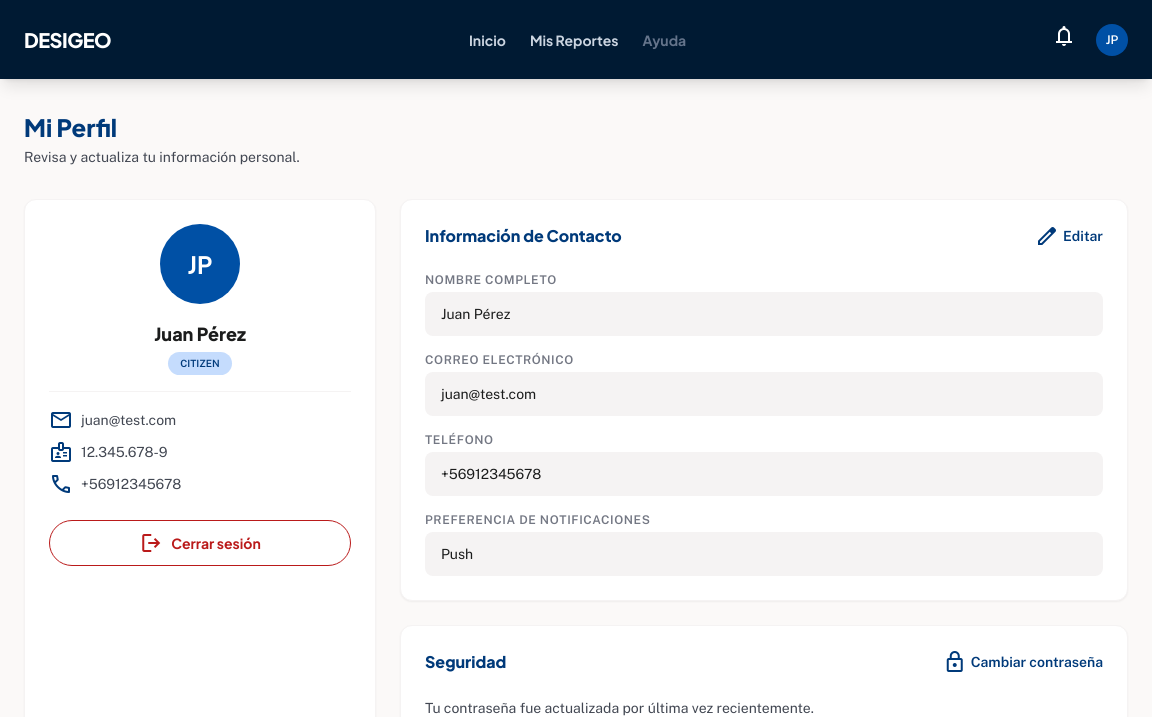
Test case: CP-PERFIL — Perfil de Usuario › CP-PERFIL-001: click en Editar activa el campo de teléfono
What coordinates should you click on to do the following:
click the button "Editar"
I would click on:
 (1069, 236)
Its box is [1035,224,1103,248].
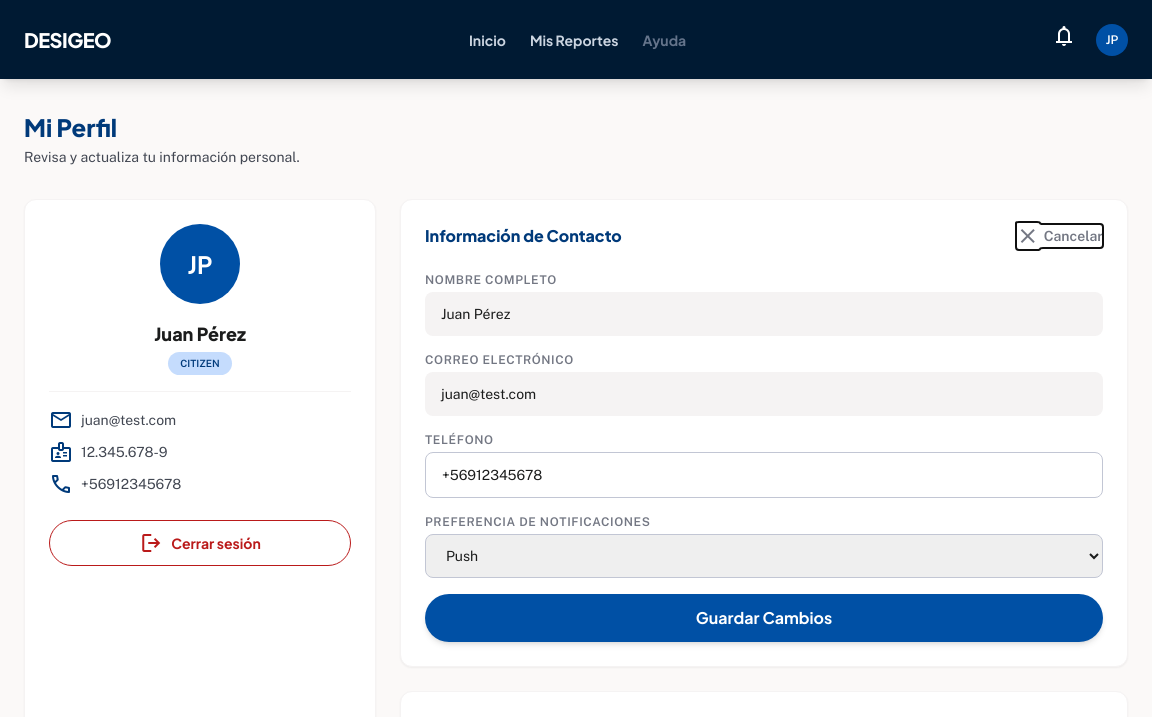
expect the field with placeholder "+56 9 1234 5678" is shown: met, box [425,452,1103,498]
